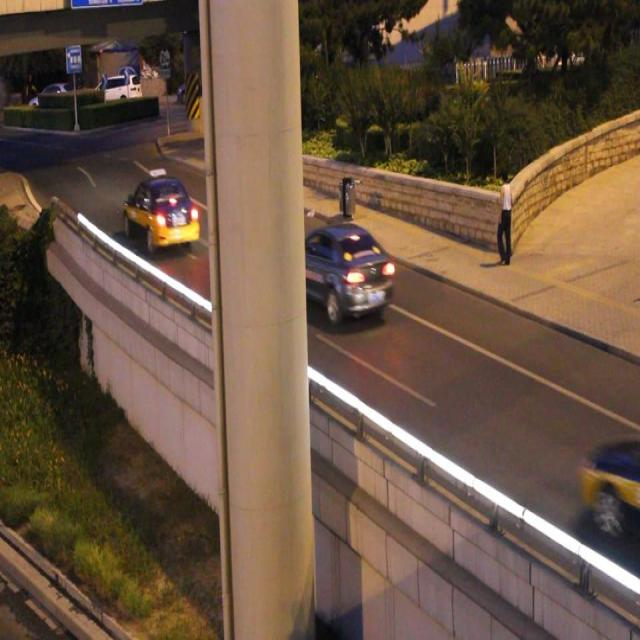car: (289, 226, 390, 316), (580, 432, 640, 539), (124, 176, 198, 246)
